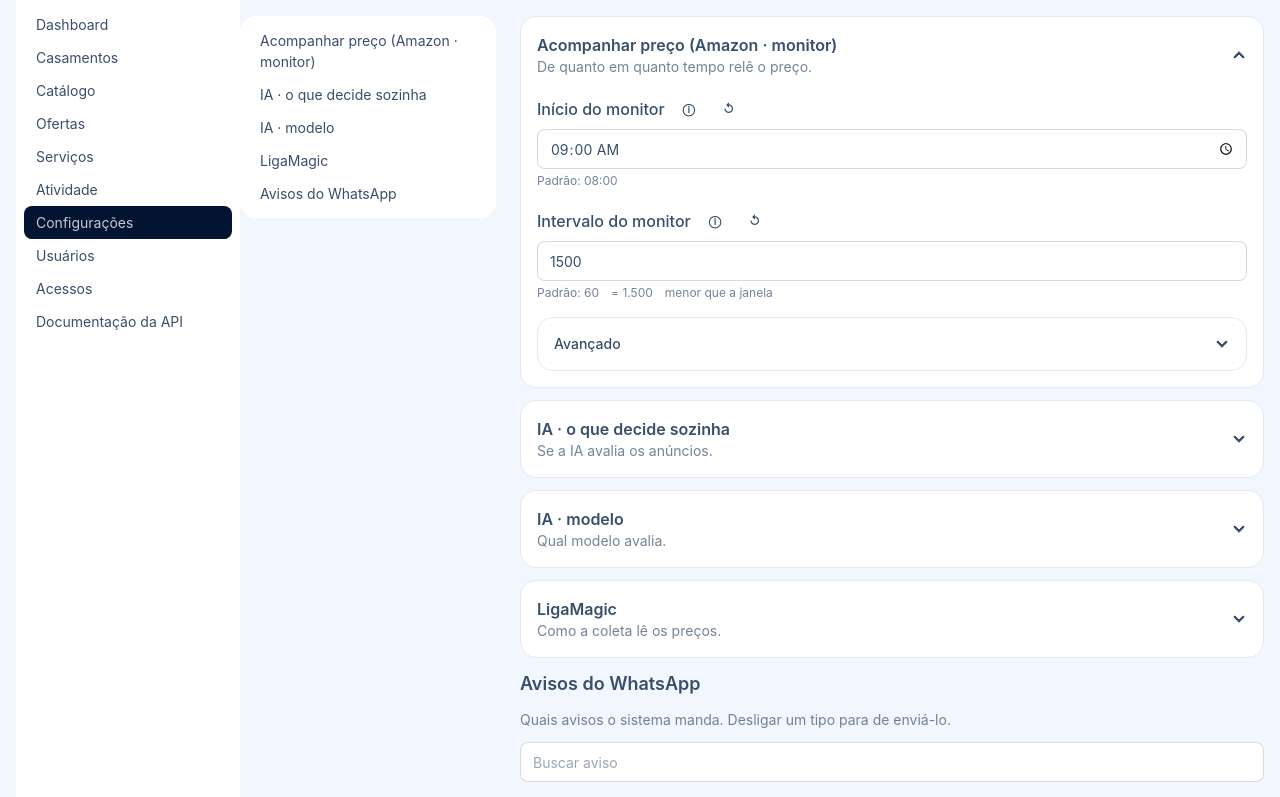
Test: Configurações › campo com rótulo, tooltip, Padrão com milhar, vínculo, e ↺ volta ao padrão
(page scrolled)
Expected: the heading "Acompanhar preço (Amazon · monitor)" is shown, [537,35,837,55]
Expected: the field labelled "Intervalo do monitor" holds "1500", [537,241,1247,281]
Click the button named "Voltar ao padrão: Intervalo do monitor" at (755, 221), box [739,205,771,237]
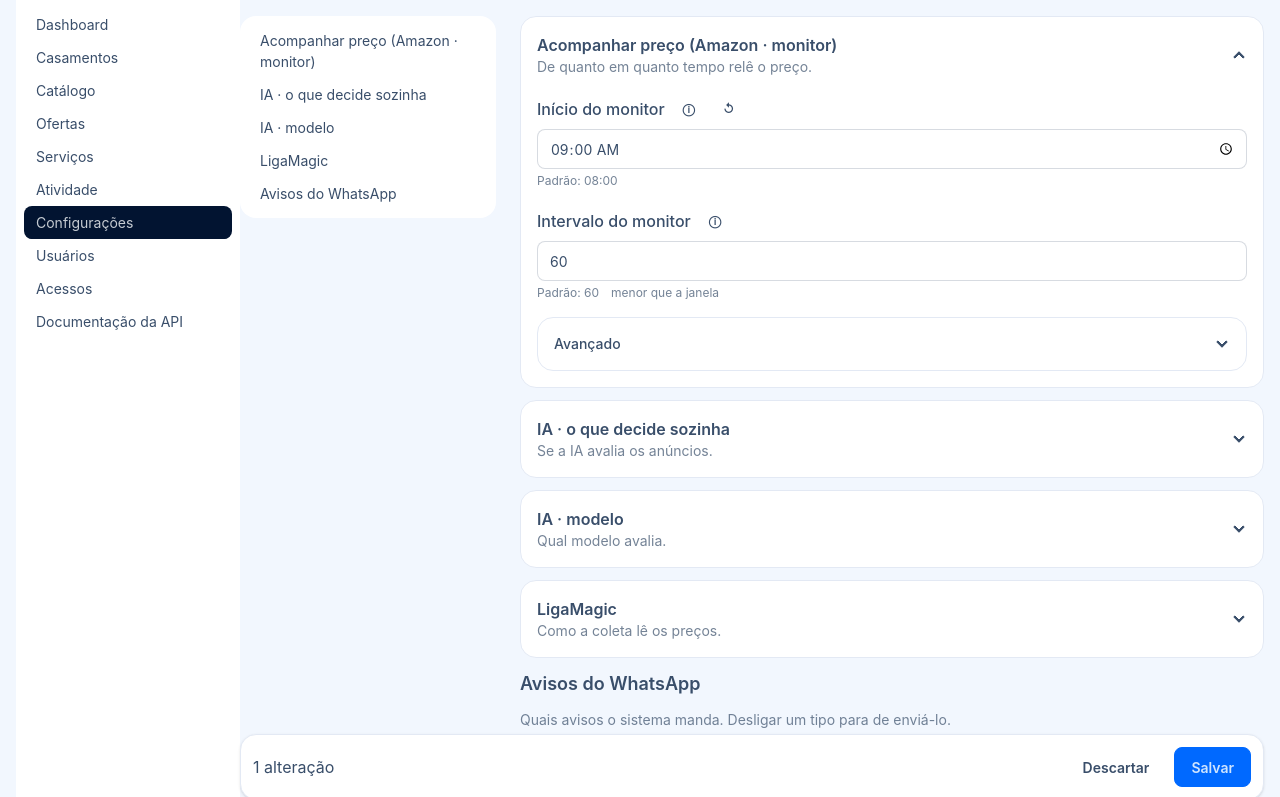
Expected: the field labelled "Intervalo do monitor" holds "60", [537,241,1247,281]
Expected: the text "1 alteração" is shown, [253,755,334,779]
